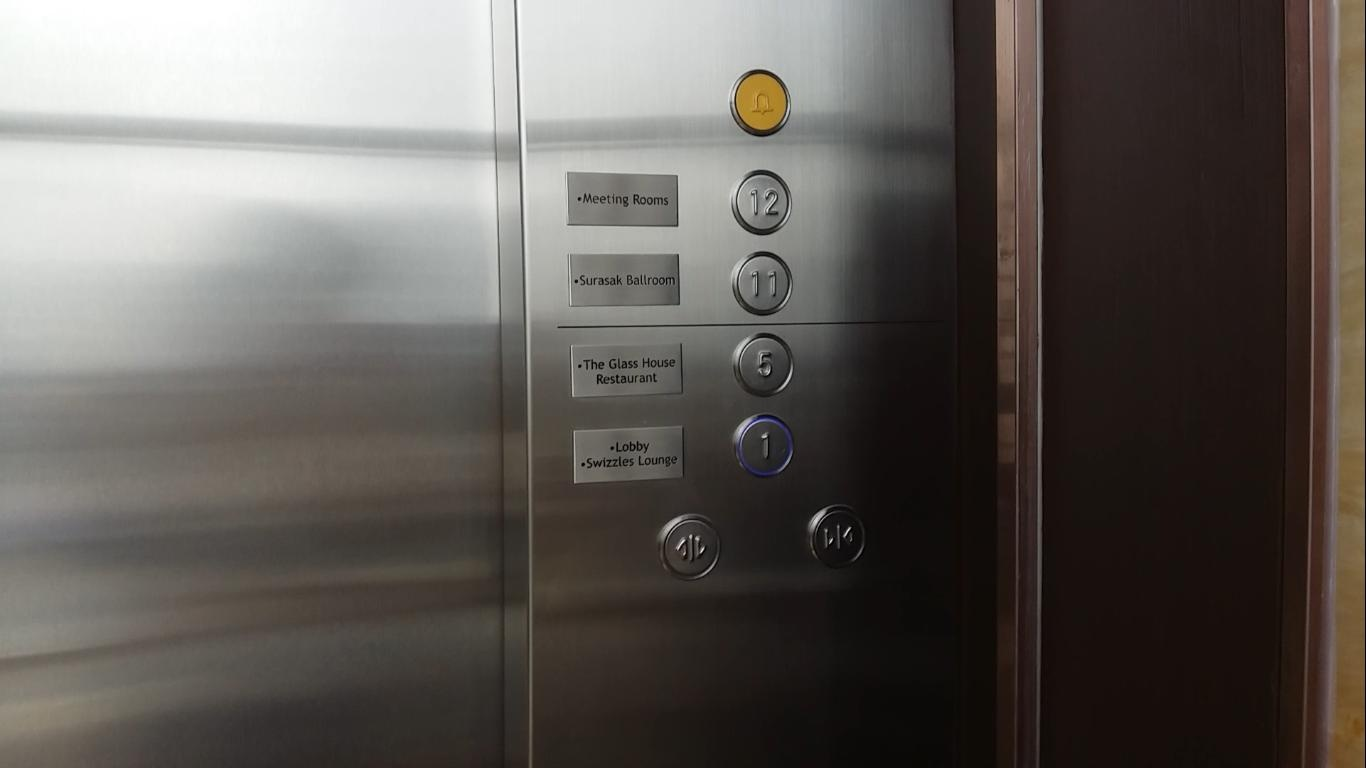1: (731, 411, 797, 478)
11: (731, 248, 795, 319)
12: (730, 169, 794, 235)
5: (731, 332, 796, 400)
alarm: (729, 62, 795, 142)
close: (803, 500, 868, 571)
open: (656, 512, 723, 582)
